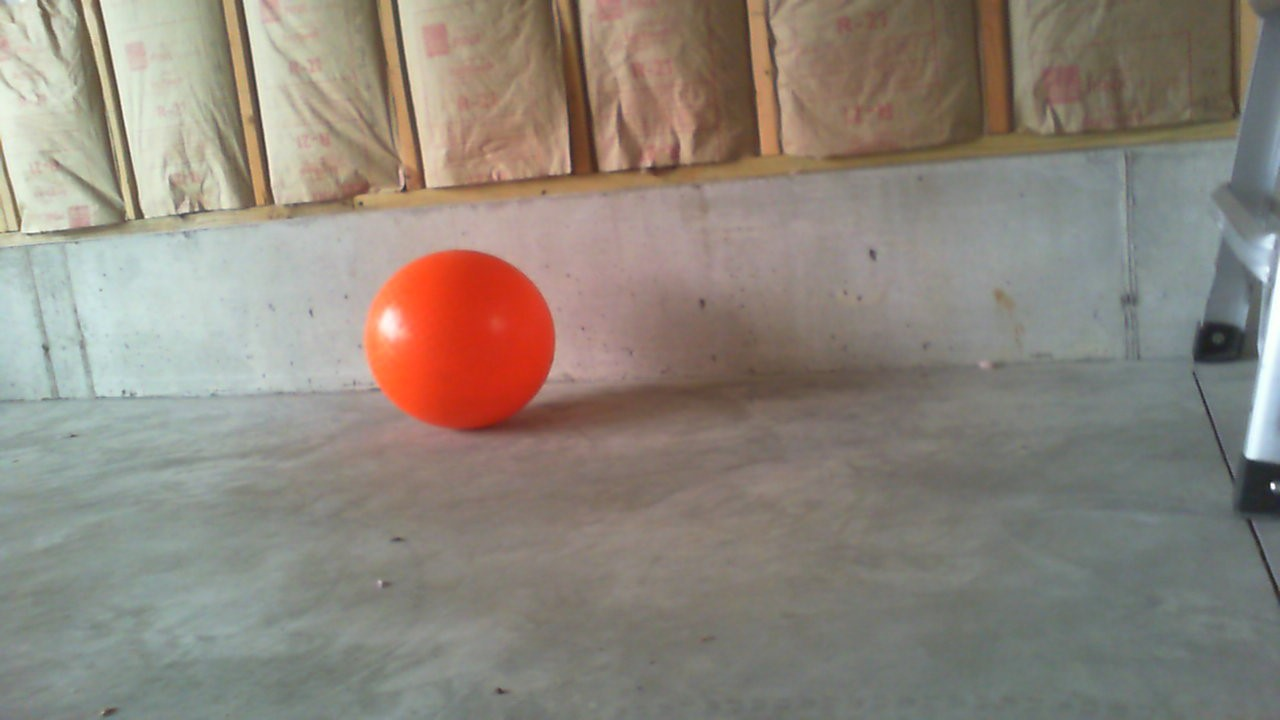Ball: (365, 249, 556, 429)
